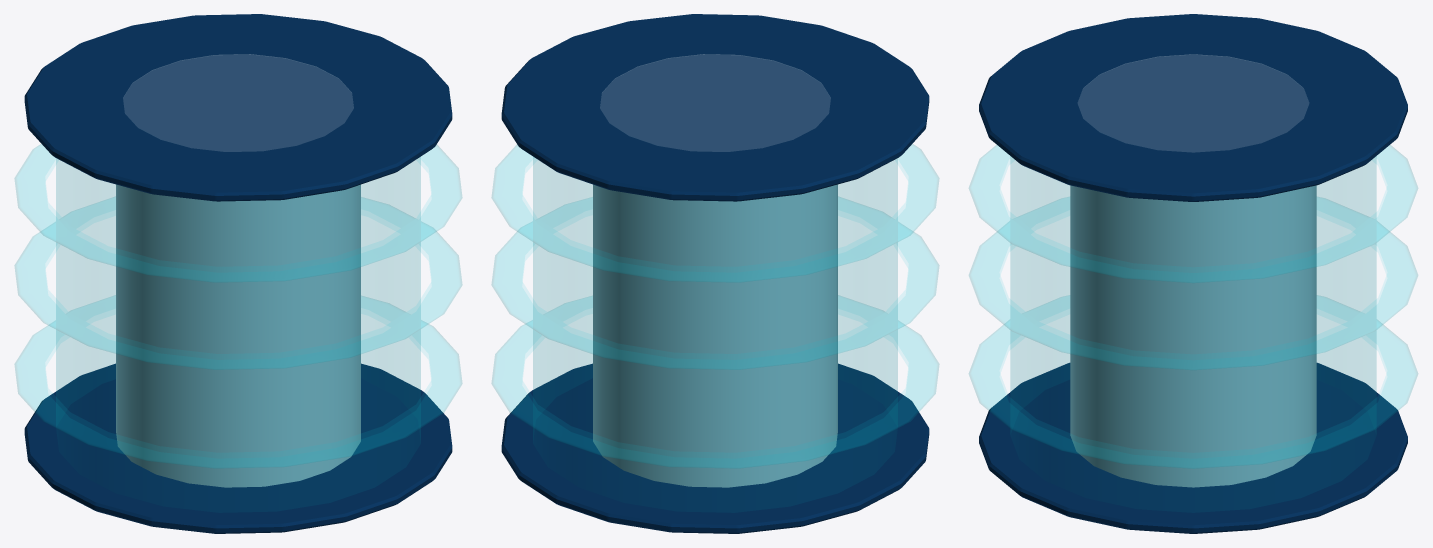
The model's file is finalteleporter.fbx.
The picture shows the model from 3 angles, left to right: view 1: azimuth 30°, elevation 25°; view 2: azimuth 150°, elevation 25°; view 3: azimuth 270°, elevation 25°; orthographic projection.
Visible parts, largest first — view 1: group4_pasted__pTorus1; view 2: group4_pasted__pTorus1; view 3: group4_pasted__pTorus1.
Boxes of the visible parts, box(x1,y1,x2,y2) form: group4_pasted__pTorus1: box(15, 14, 461, 533); group4_pasted__pTorus1: box(492, 14, 938, 533); group4_pasted__pTorus1: box(969, 14, 1417, 533).
Size of the model in its own units: 7.33 by 6.18 by 7.33.
